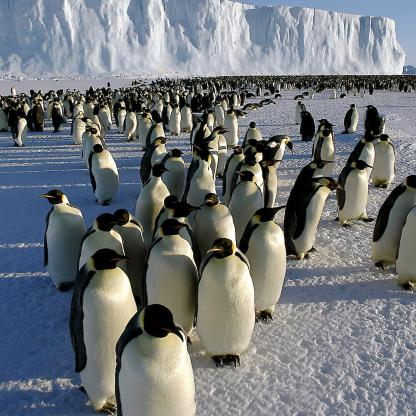Penguin: (96, 290, 242, 416), (58, 246, 155, 416), (22, 180, 107, 313), (191, 234, 267, 375), (141, 221, 210, 350), (72, 200, 136, 326), (233, 198, 295, 320), (102, 207, 160, 322), (288, 165, 340, 272), (191, 192, 253, 279), (276, 143, 335, 234), (78, 139, 136, 225), (326, 148, 385, 230), (219, 163, 265, 245), (135, 157, 174, 253), (184, 146, 227, 224), (152, 140, 192, 219)
